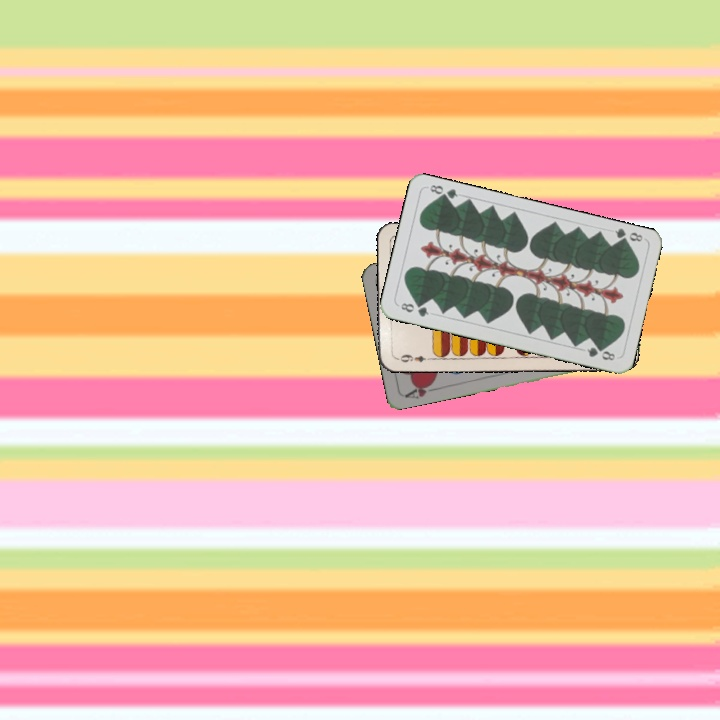E9: (393, 350, 433, 365)
G8: (611, 224, 645, 247), (397, 299, 431, 319)
HA: (401, 378, 441, 401)
